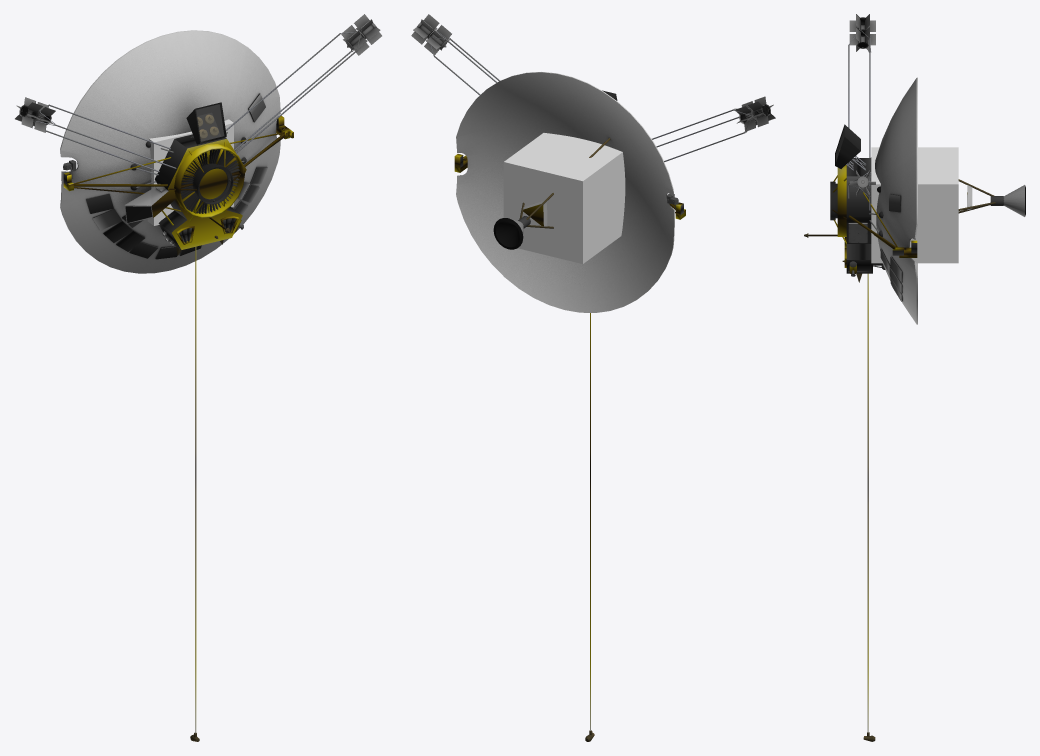
The model's file is Pioneer.gltf.
The picture shows the model from 3 angles, left to right: view 1: azimuth 30°, elevation 25°; view 2: azimuth 150°, elevation 25°; view 3: azimuth 270°, elevation 25°; orthographic projection. The views are drawn at different scales.
Parts seen in each view (by area): view 1: AO_dish, Foil_gold, Silver, Norm_silver, Tex_02, Foil_silver, AO_rtg, _root, Tex_black, Foil_trans; view 2: AO_dish, _root, AO_rtg, Tex_02, Foil_gold, Tex_black; view 3: AO_dish, _root, Foil_silver, Foil_gold, Silver, Tex_02, AO_rtg, Norm_silver, Tex_01.
Boxes of the visible parts, x1=… form: AO_dish: x1=60, y1=30, x2=280, y2=273; Foil_gold: x1=63, y1=116, x2=293, y2=733; Silver: x1=63, y1=93, x2=267, y2=258; Norm_silver: x1=86, y1=93, x2=267, y2=259; Tex_02: x1=34, y1=32, x2=360, y2=741; Foil_silver: x1=63, y1=118, x2=278, y2=249; AO_rtg: x1=15, y1=14, x2=381, y2=132; _root: x1=147, y1=119, x2=233, y2=225; Tex_black: x1=125, y1=104, x2=224, y2=222; Foil_trans: x1=196, y1=104, x2=223, y2=141; AO_dish: x1=456, y1=72, x2=674, y2=312; _root: x1=503, y1=133, x2=625, y2=263; AO_rtg: x1=411, y1=14, x2=775, y2=131; Tex_02: x1=429, y1=30, x2=756, y2=741; Foil_gold: x1=454, y1=154, x2=685, y2=730; Tex_black: x1=493, y1=218, x2=523, y2=249; AO_dish: x1=875, y1=77, x2=1024, y2=324; _root: x1=871, y1=147, x2=958, y2=263; Foil_silver: x1=846, y1=158, x2=917, y2=273; Foil_gold: x1=808, y1=165, x2=967, y2=732; Silver: x1=830, y1=124, x2=1003, y2=301; Tex_02: x1=804, y1=30, x2=995, y2=741; AO_rtg: x1=849, y1=14, x2=875, y2=195; Norm_silver: x1=880, y1=194, x2=901, y2=301; Tex_01: x1=848, y1=223, x2=867, y2=242.
Bounding box in the file's own units: 4.52 × 8.25 × 2.54.
11 materials, 10 textured.
